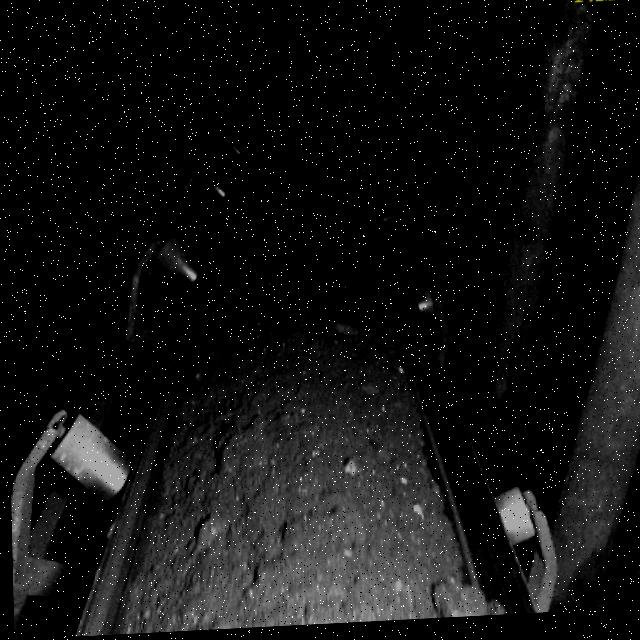large_sized_coal: (430, 590, 482, 623)
